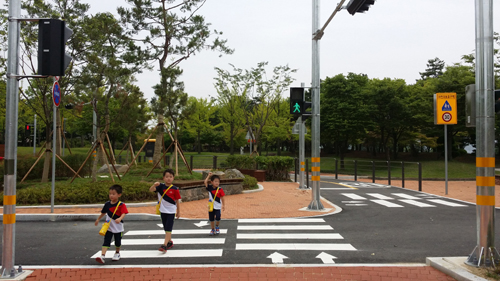traffic_light: (290, 88, 305, 115)
